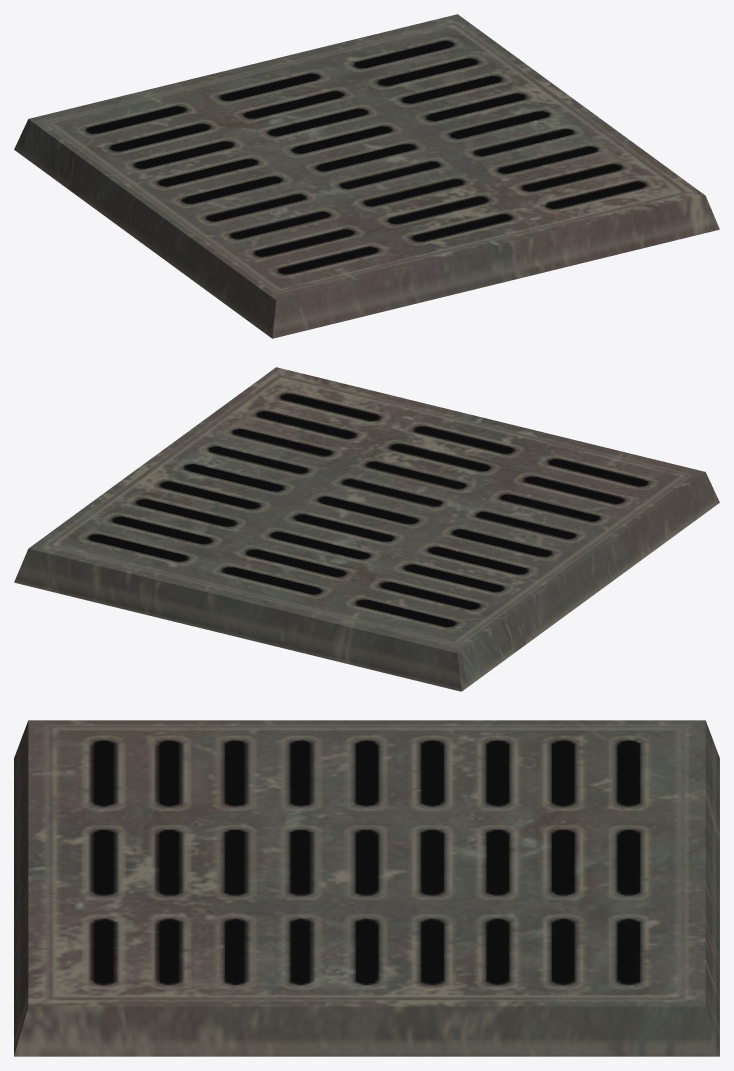
Rendered from S_PropDrain.gltf.
The picture shows the model from 3 angles, top to bottom: view 1: azimuth 30°, elevation 25°; view 2: azimuth 150°, elevation 25°; view 3: azimuth 270°, elevation 25°; orthographic projection. The views are drawn at different scales.
Visible parts, largest first — view 1: Cube_173; view 2: Cube_173; view 3: Cube_173.
Part boxes in pixels (x1,y1,x2,y2): Cube_173: (14,14,719,338); Cube_173: (14,367,719,691); Cube_173: (14,720,719,1056).
Size of the model in its own units: 0.5852 by 0.0404 by 0.5852.
1 material, 1 textured.
